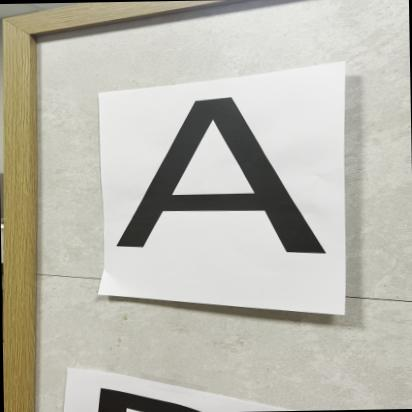seat: (121, 87, 316, 265)
